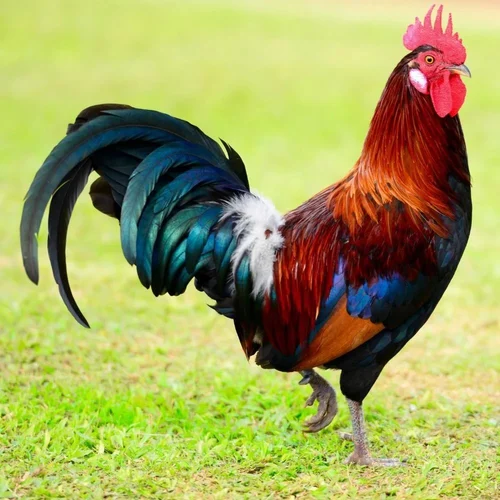Healthy: (4, 3, 500, 481)
